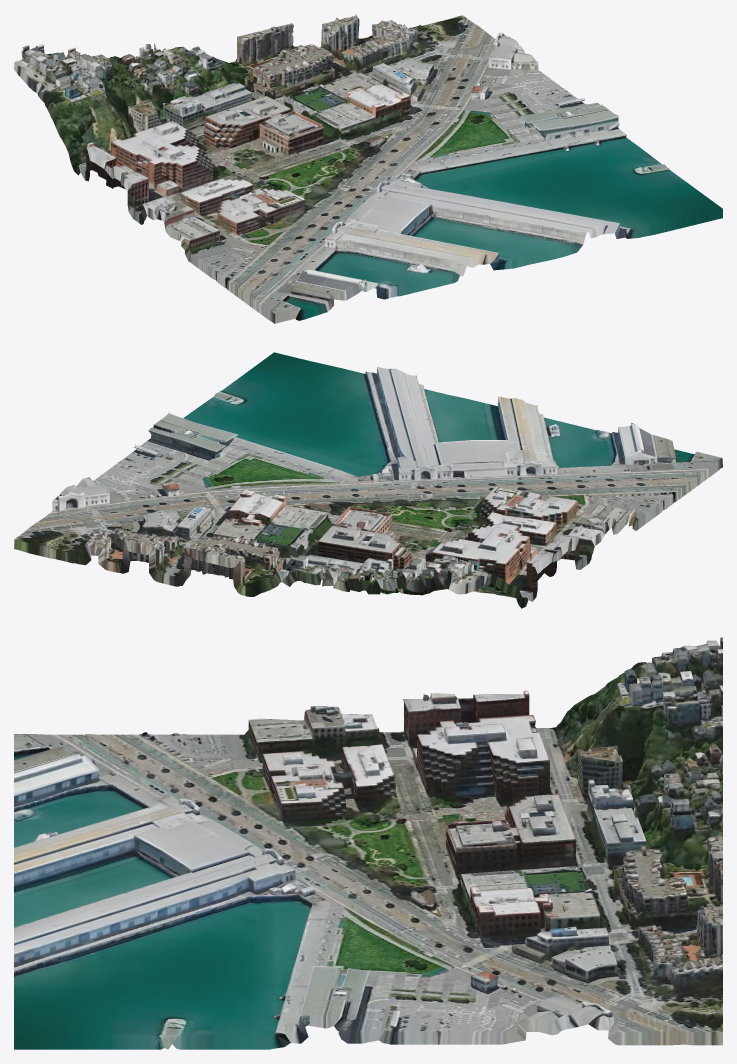
The model's file is z16-10485-25324-h0-yup-uvflip-v3-world.glb.
3 renders of one model, top to bottom at view 1: azimuth 30°, elevation 25°; view 2: azimuth 150°, elevation 25°; view 3: azimuth 270°, elevation 25°, orthographic. The views are drawn at different scales.
Size of the model in its own units: 483 by 90.88 by 485.
Materials: 1 (1 with a texture image).
